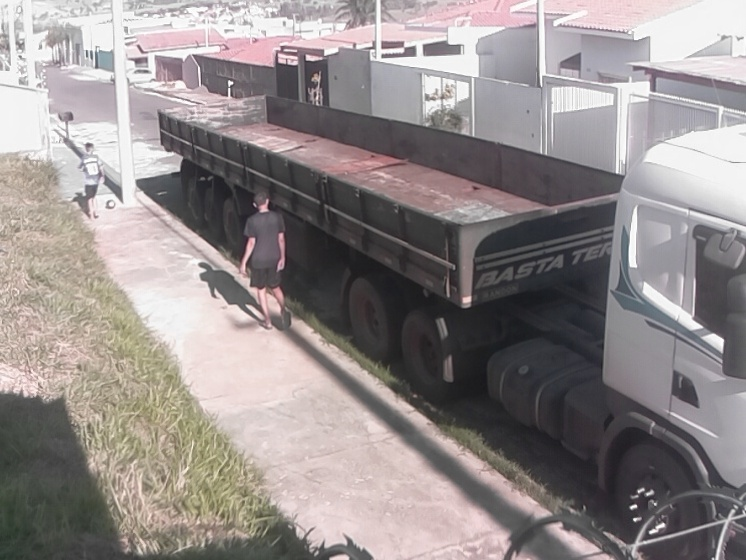person: (235, 190, 300, 334), (74, 141, 119, 221)
